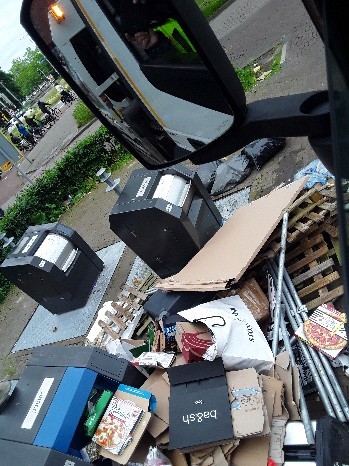Container: (19, 358, 103, 464), (121, 183, 227, 261), (10, 228, 98, 302)
Papier: (164, 365, 273, 465), (155, 287, 259, 364), (111, 394, 179, 465)
Rest: (177, 162, 308, 321), (261, 175, 335, 379), (271, 370, 342, 446), (81, 319, 175, 376)
